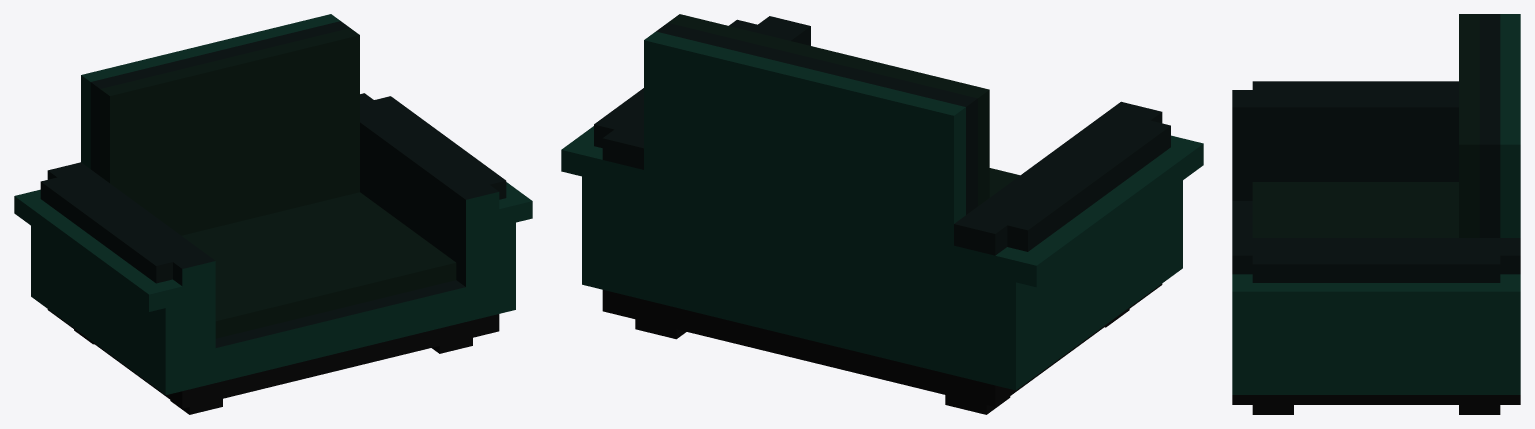
File: Single Seat Sofa.FBX
3 views of the same model, side by side, from view 1: azimuth 30°, elevation 25°; view 2: azimuth 150°, elevation 25°; view 3: azimuth 270°, elevation 25° (orthographic). The views are drawn at different scales.
Visible parts, largest first — view 1: sofa 1 seat; view 2: sofa 1 seat; view 3: sofa 1 seat.
Part boxes in pixels (box(x1,y1,x2,y2)): sofa 1 seat: box(14, 14, 532, 414); sofa 1 seat: box(561, 14, 1203, 414); sofa 1 seat: box(1232, 14, 1520, 414).
Size of the model in its own units: 9.2 by 5.6 by 5.6.
